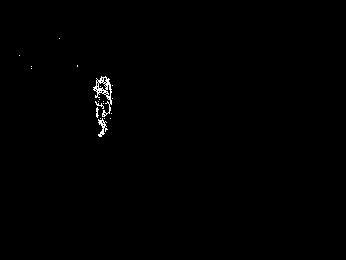person: (92, 73, 114, 139)
